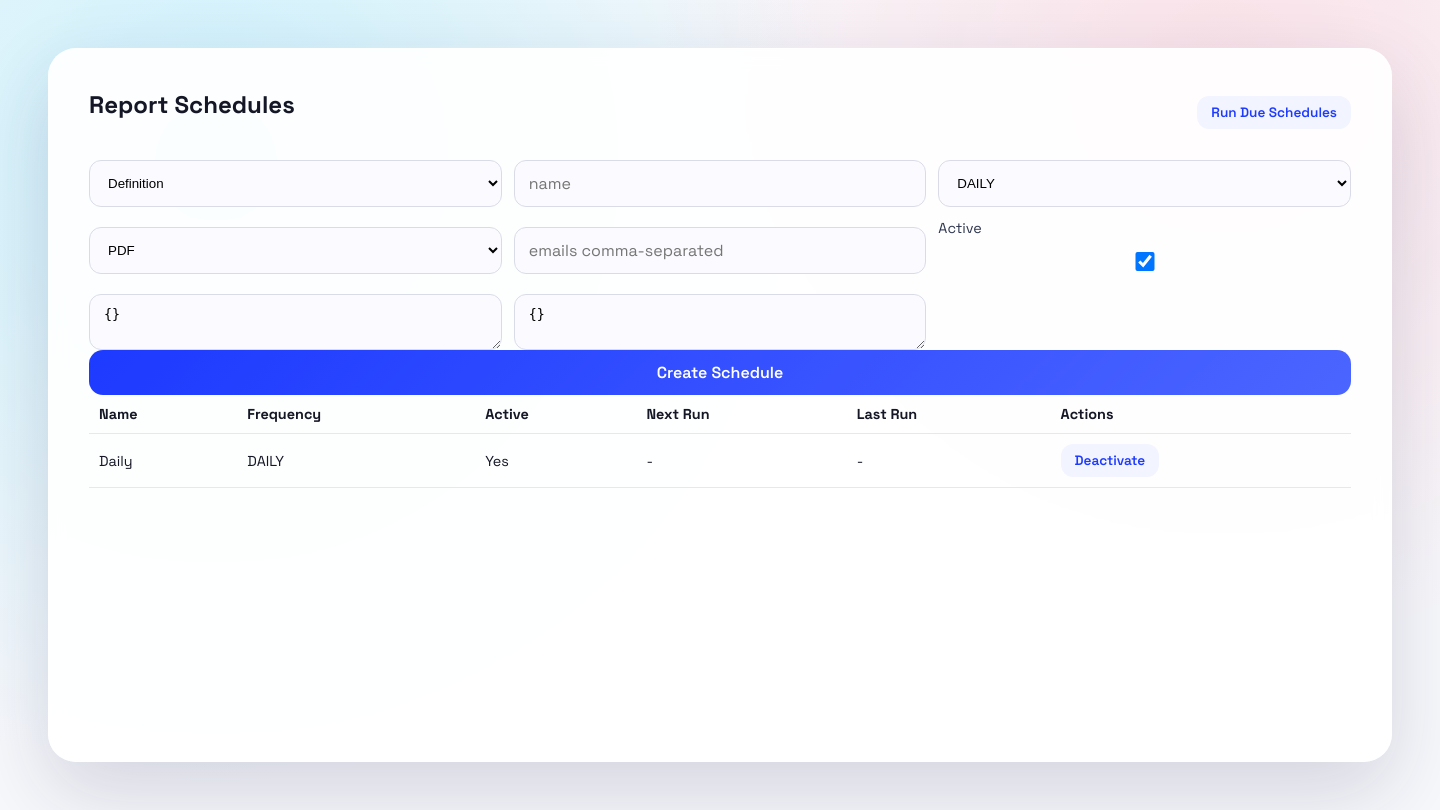
Test: runs and schedules › validates schedule recipient emails
Select "Ops" in the dropdown named "schedule_report_definition_id": (295, 184) [89,160,502,207]
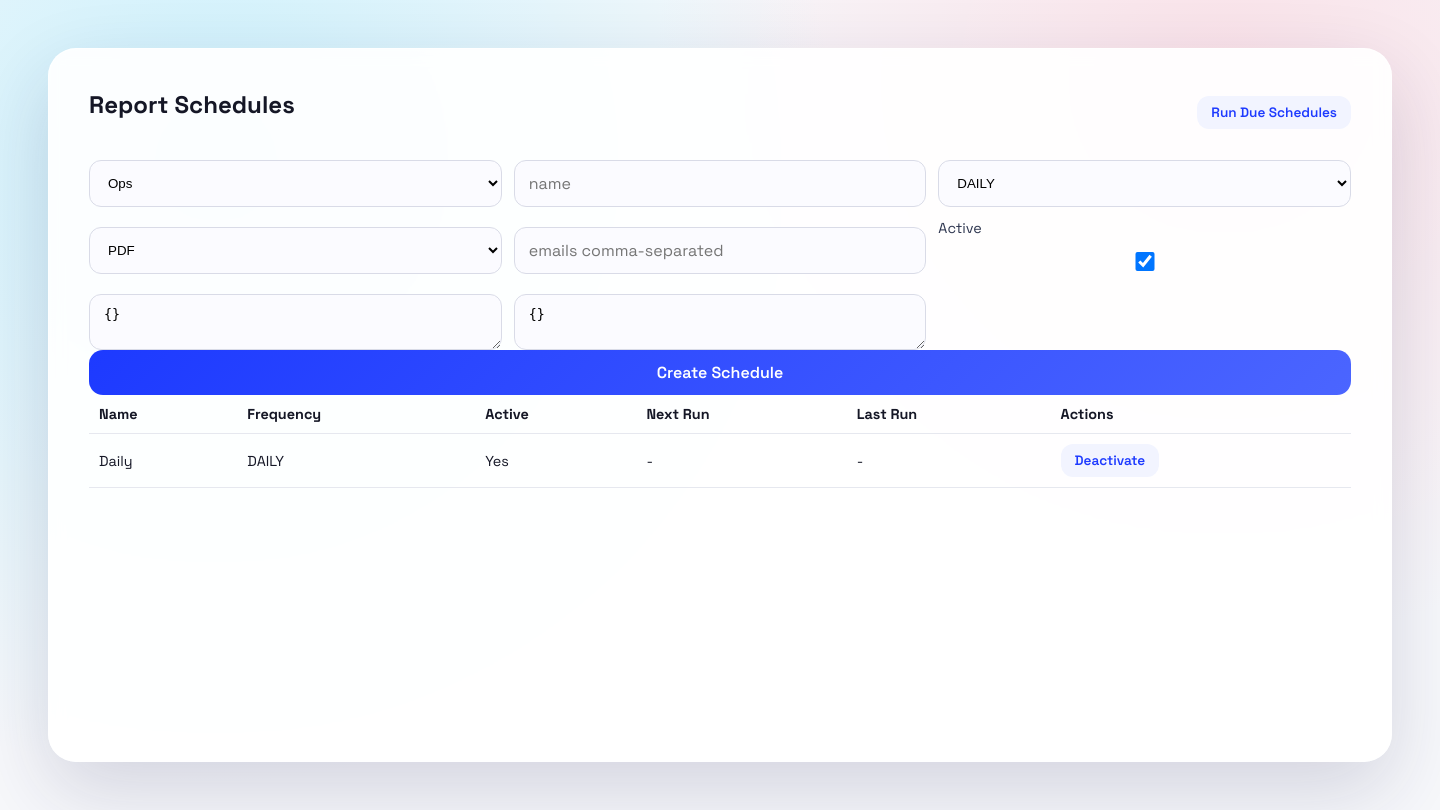
In the field named "schedule_name": (720, 184) [514,160,926,207], type "Daily"
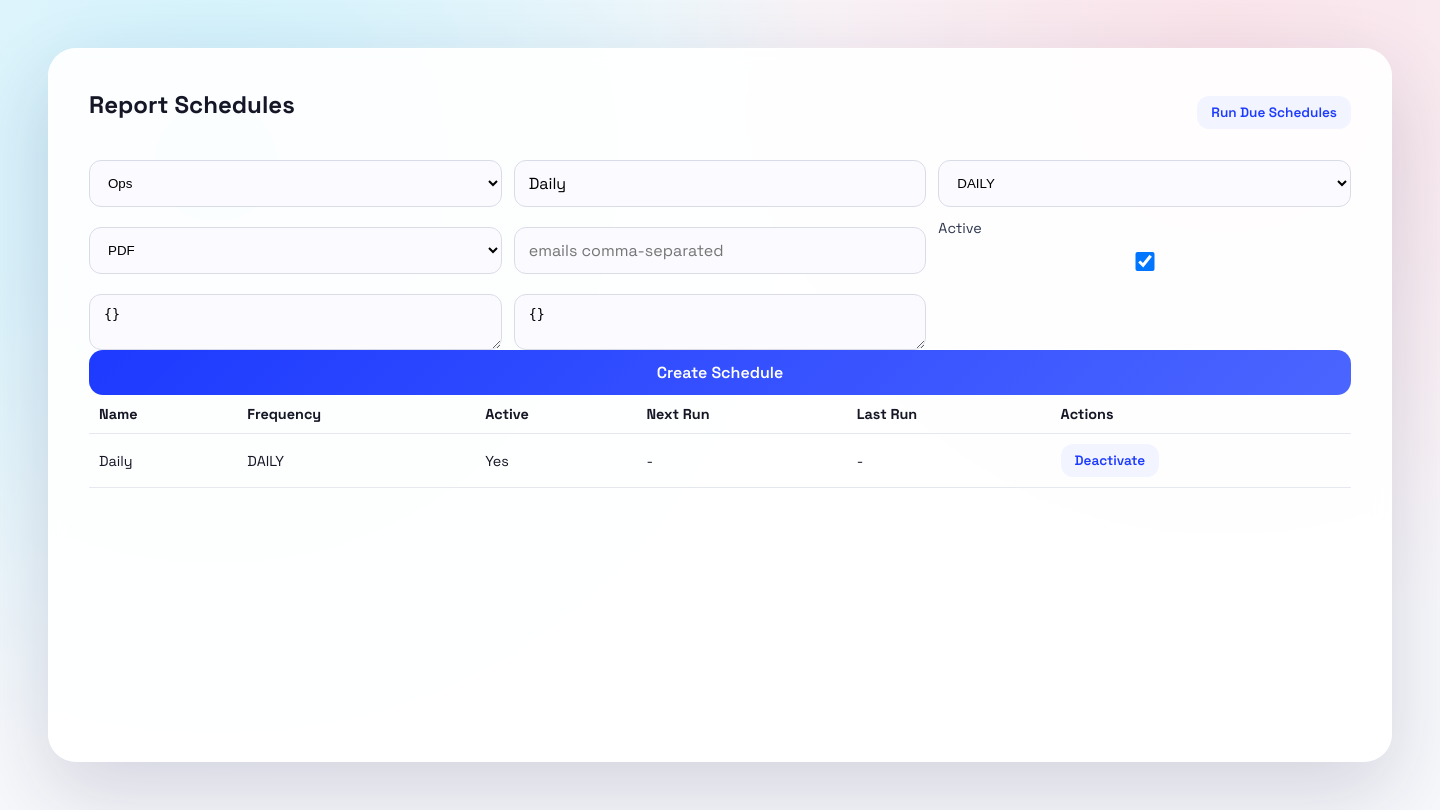
In the field named "schedule_recipients": (720, 250) [514,227,926,274], type "bad-email"
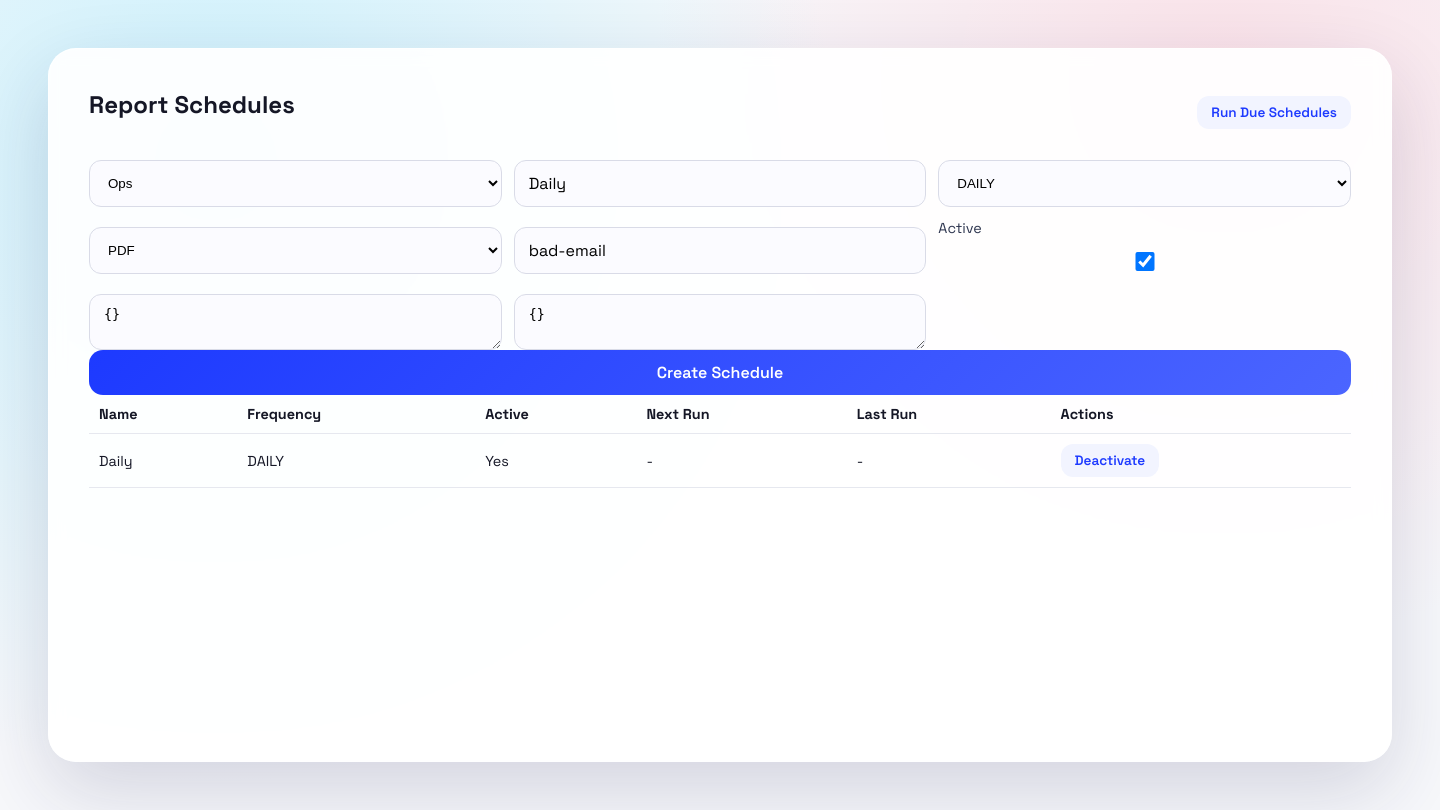
Click the button "Create Schedule": (720, 372) [89,350,1351,395]
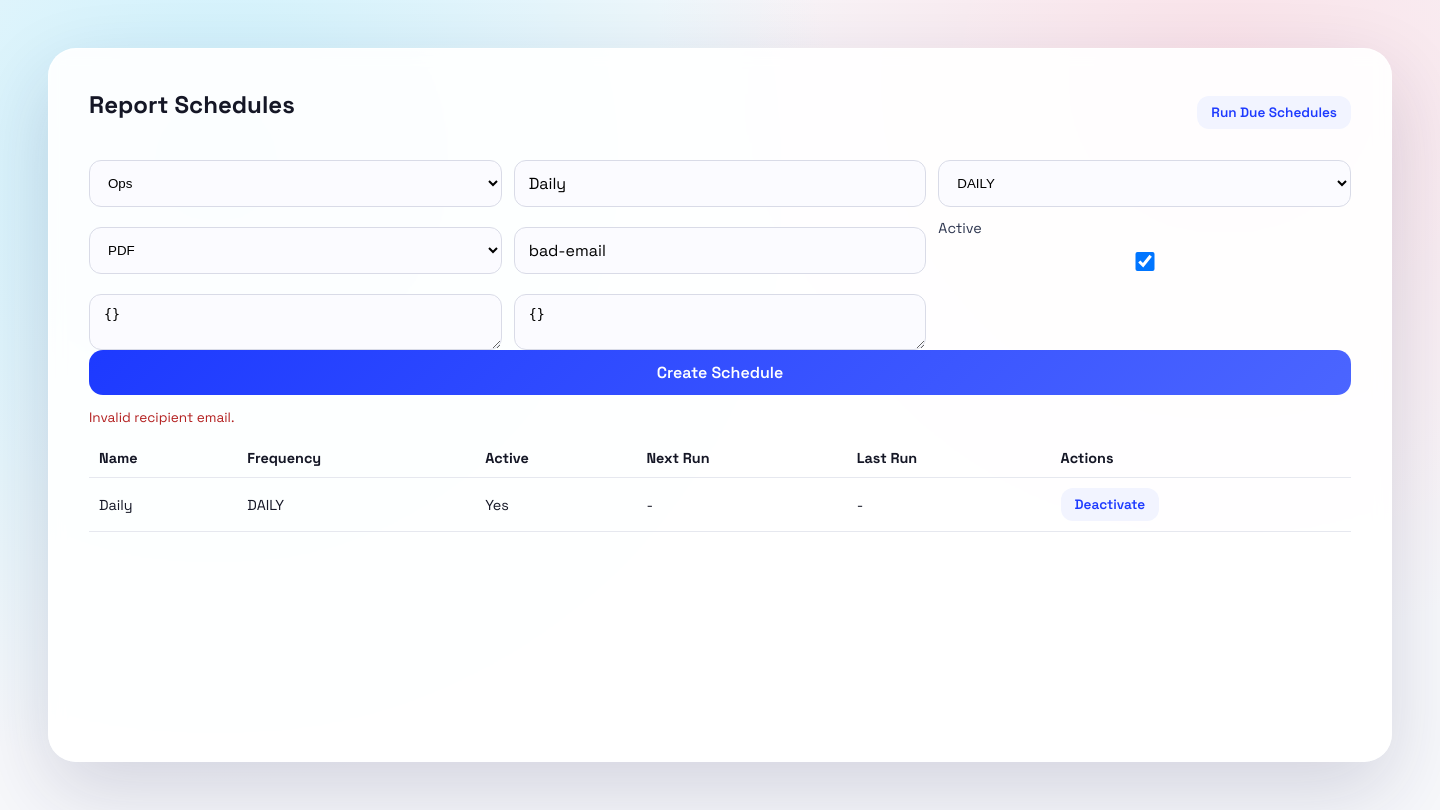
Now the text "Invalid recipient email." is shown, box [89,409,234,426]
